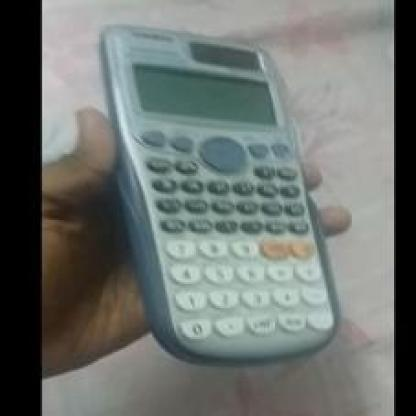calculator: (99, 17, 338, 366)
